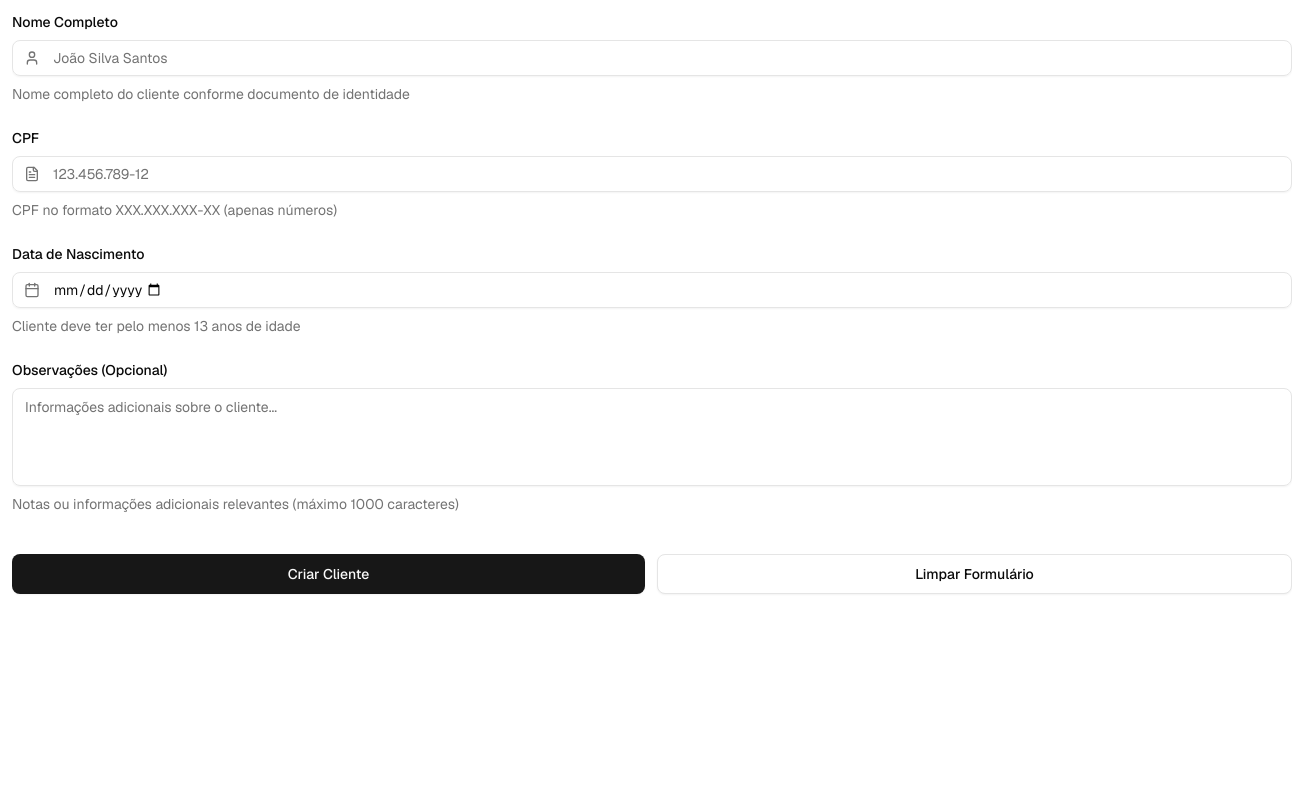
Test: ClientRegistrationForm - Responsive & Accessibility Tests › Accessibility Compliance › should handle loading states accessibly
Type "João Silva" into the field named "nome completo" at (652, 58), box [12, 40, 1292, 76]
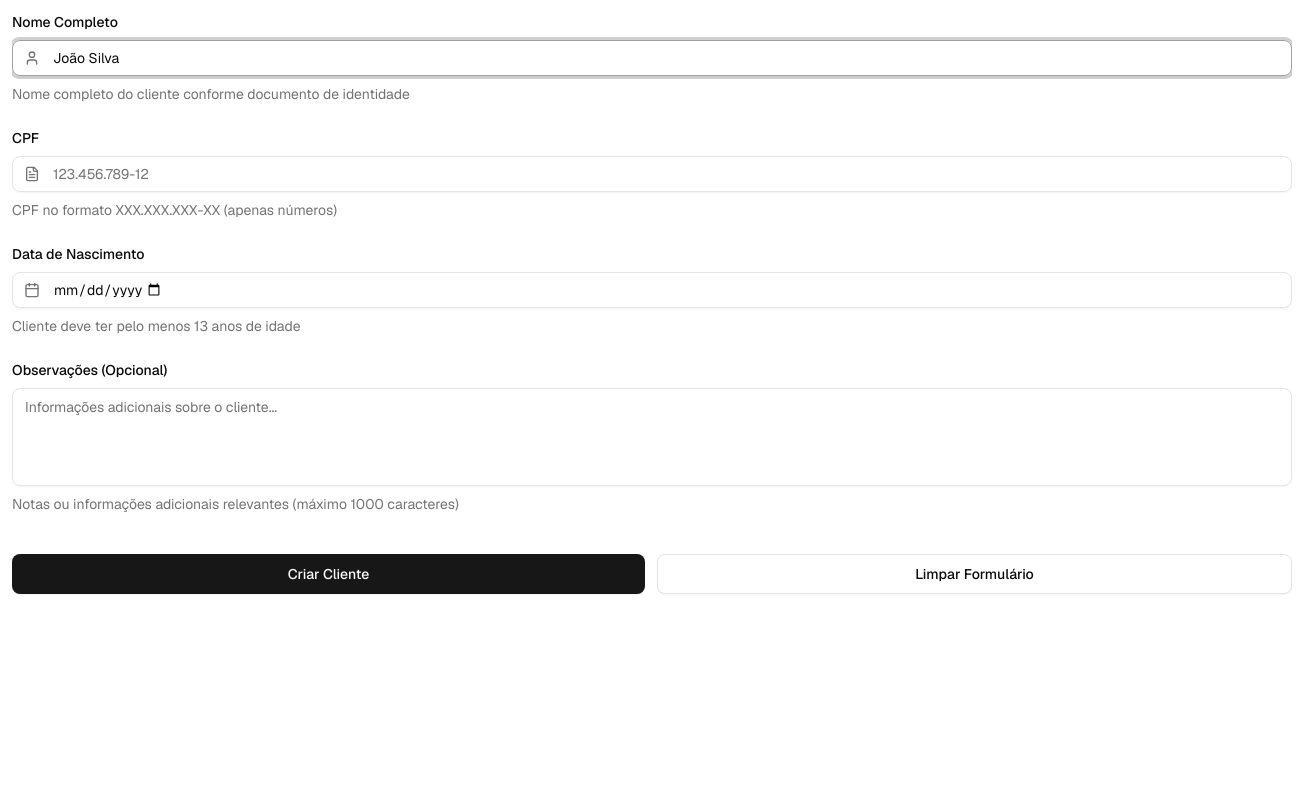
Type "12345678901" into the field named "cpf" at (652, 174), box [12, 156, 1292, 192]
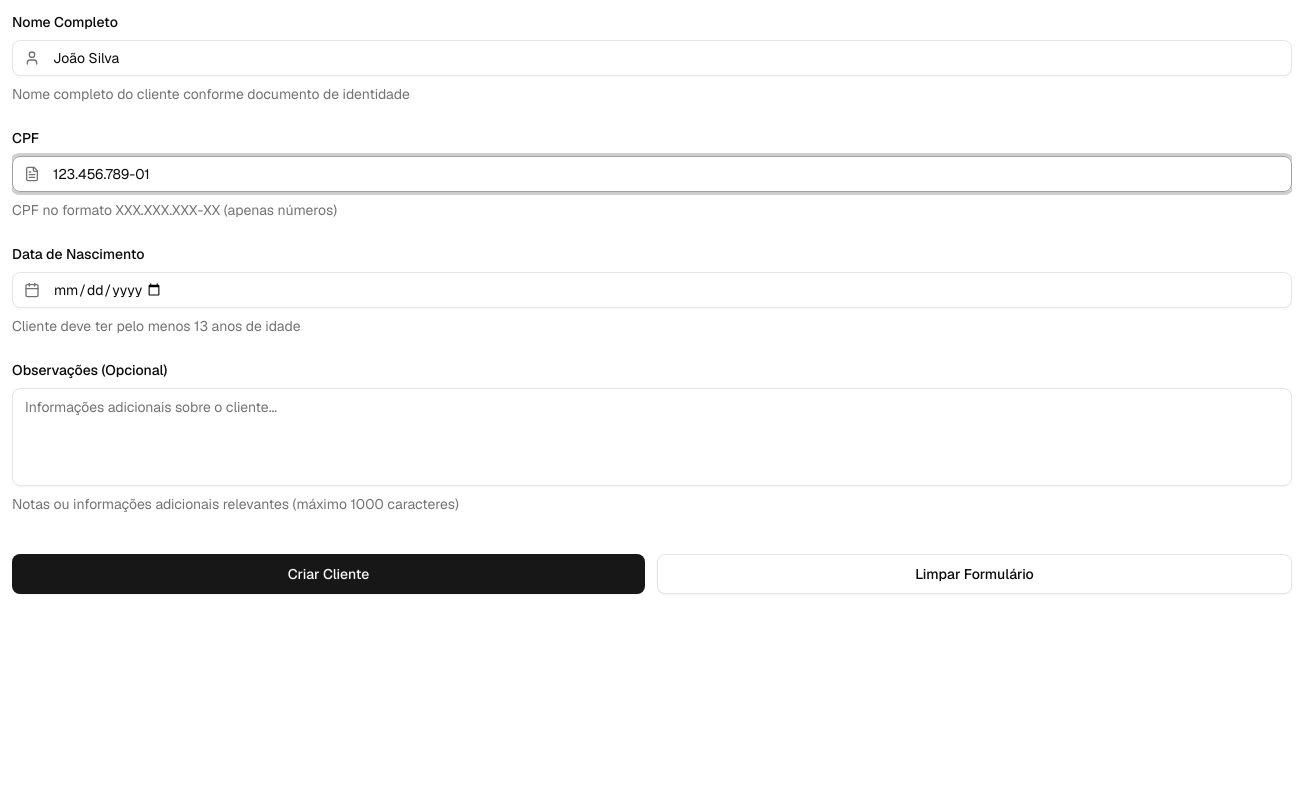
Type "1990-05-15" into the date field named "data de nascimento" at (652, 290), box [12, 272, 1292, 308]
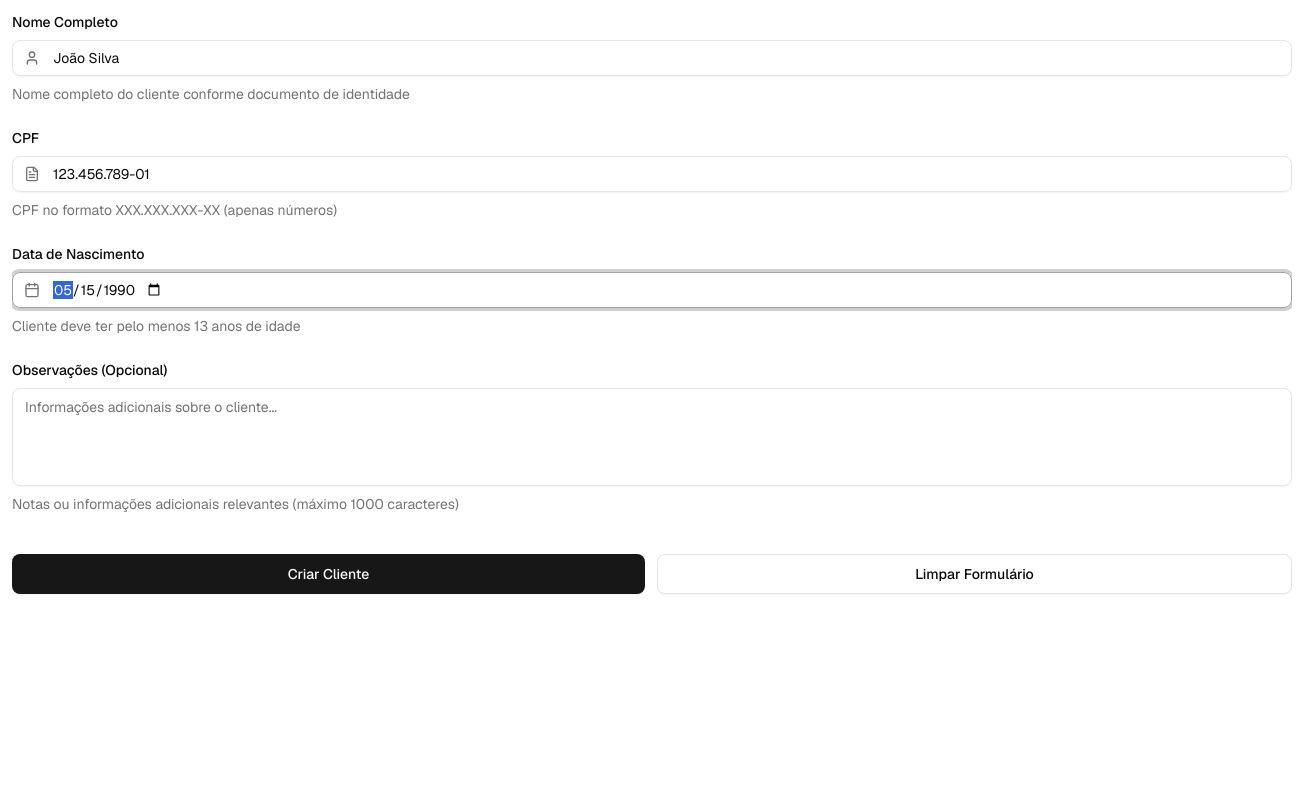
Click the button "Criar Cliente" at (328, 574), box [12, 554, 645, 594]
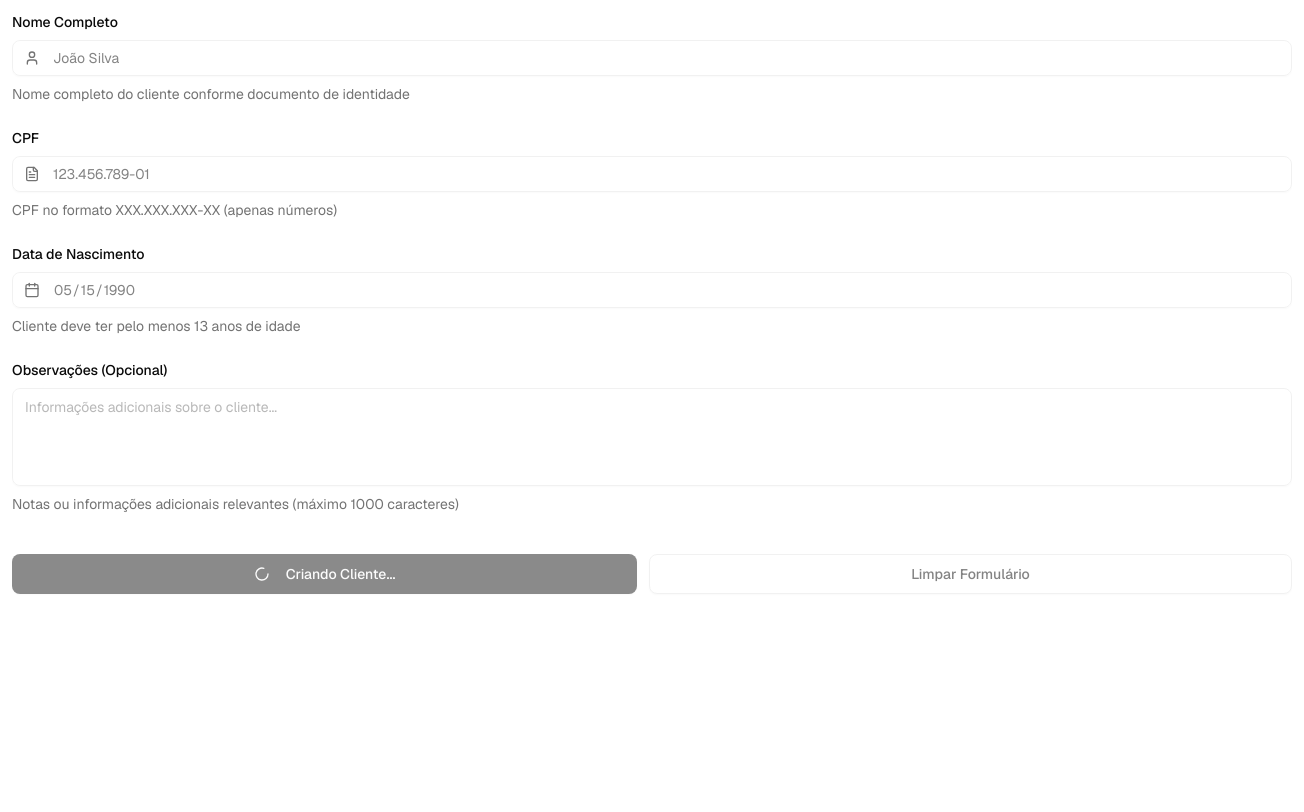
Result: the button "Criando Cliente..." is disabled at [12, 554, 637, 594]
